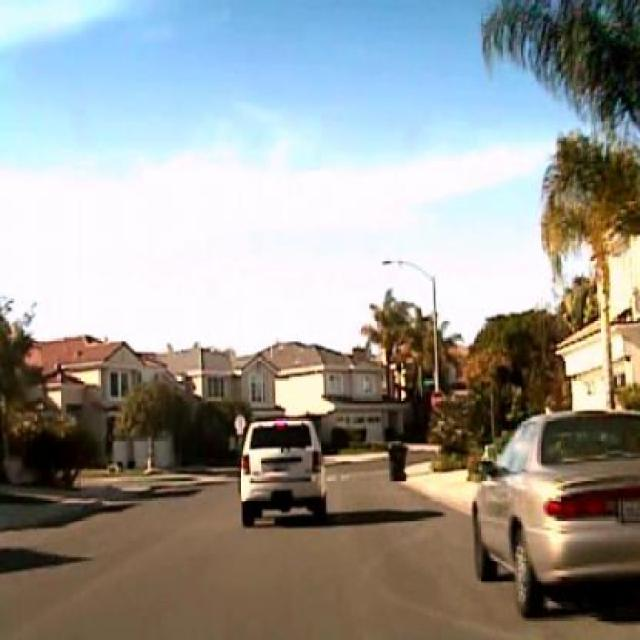stop: (429, 389, 444, 409)
